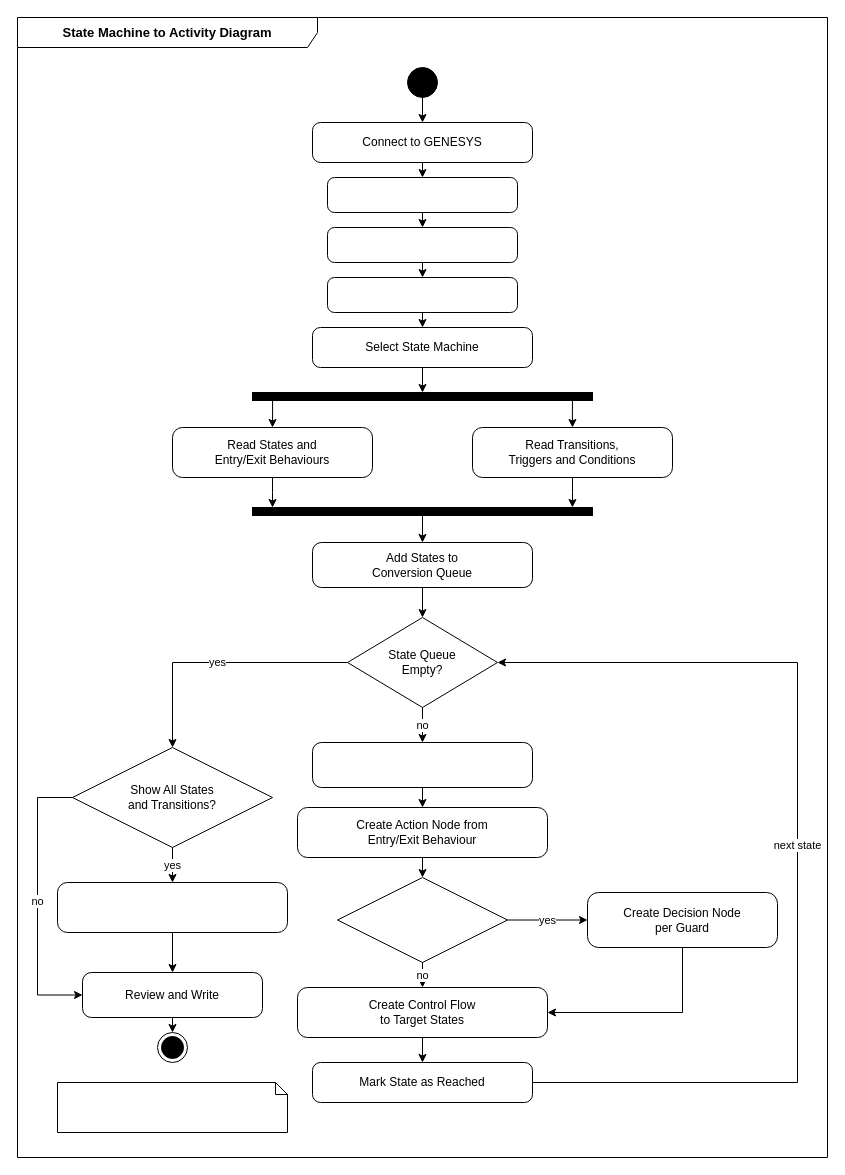
This 845x1175 diagram has some shape labels left out. The centre of each missing label's shape, as x and y in pixels:
Append Unreached States and Transitions: pixel 172 907
Call behaviour action. Shared with both code translations.: pixel 172 1107
Create Client: pixel 422 194
Guarded Transitions?: pixel 422 919
Log In: pixel 422 244
Open Project: pixel 422 294
Take Next State from Queue: pixel 422 765
